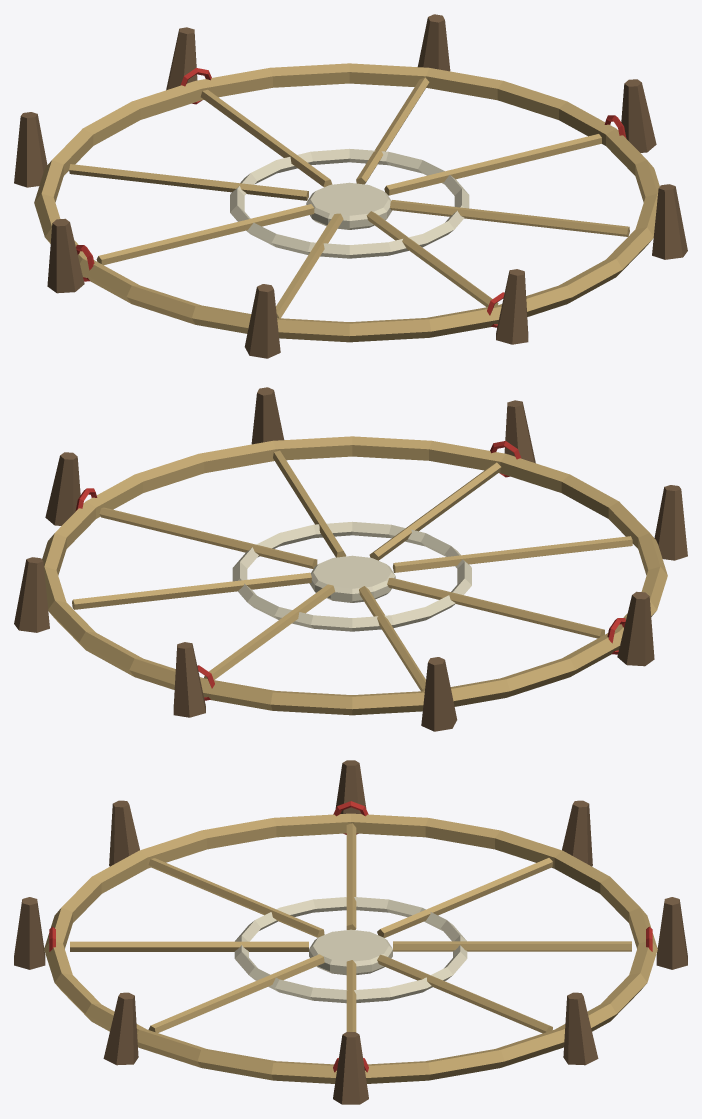
The model's file is sun_trap.glb.
The picture shows the model from 3 angles, top to bottom: view 1: azimuth 30°, elevation 25°; view 2: azimuth 150°, elevation 25°; view 3: azimuth 270°, elevation 25°; orthographic projection. The views are drawn at different scales.
Visible parts, largest first — view 1: sun_trap; view 2: sun_trap; view 3: sun_trap.
Boxes of the visible parts, x1=… form: sun_trap: x1=14, y1=14, x2=687, y2=358; sun_trap: x1=14, y1=387, x2=687, y2=731; sun_trap: x1=14, y1=760, x2=687, y2=1104.
Bounding box in the file's own units: 3.52 × 0.37 × 3.52.
